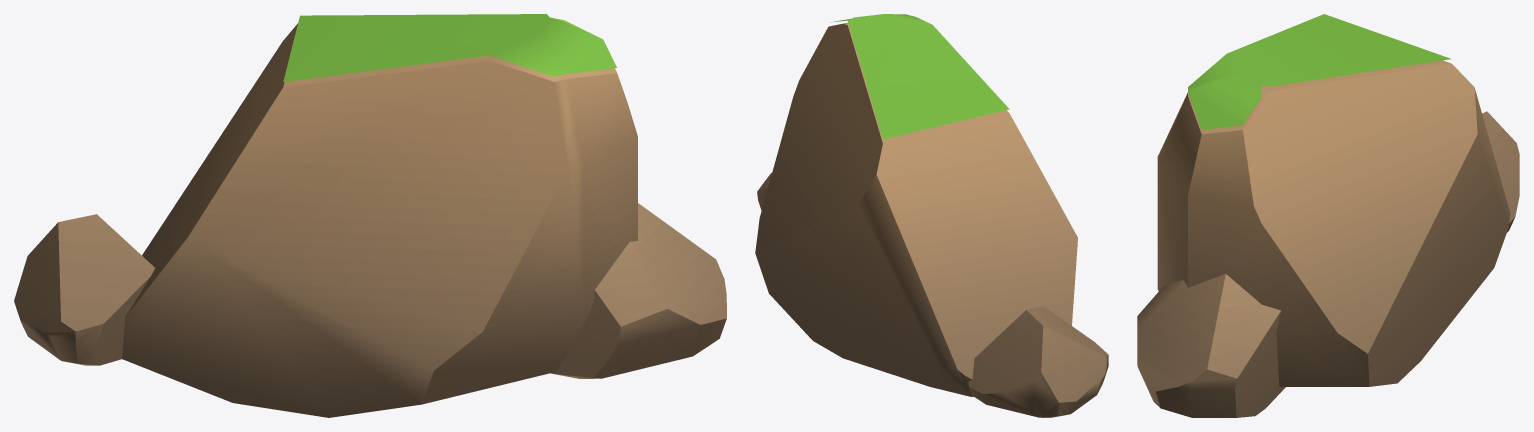
File: rock.glb
The picture shows the model from 3 angles, left to right: view 1: azimuth 30°, elevation 25°; view 2: azimuth 150°, elevation 25°; view 3: azimuth 270°, elevation 25°; orthographic projection. The views are drawn at different scales.
Parts seen in each view (by area): view 1: rock Warm rock, rock Moss; view 2: rock Warm rock, rock Moss; view 3: rock Warm rock, rock Moss.
Part boxes in pixels (x1=…): rock Warm rock: x1=14, y1=23, x2=726, y2=417; rock Moss: x1=283, y1=14, x2=616, y2=81; rock Warm rock: x1=755, y1=22, x2=1108, y2=417; rock Moss: x1=831, y1=14, x2=1009, y2=139; rock Warm rock: x1=1137, y1=60, x2=1519, y2=417; rock Moss: x1=1188, y1=14, x2=1451, y2=129.
Size of the model in its own units: 2.75 by 1.68 by 1.88.
2 materials, 2 textured.
